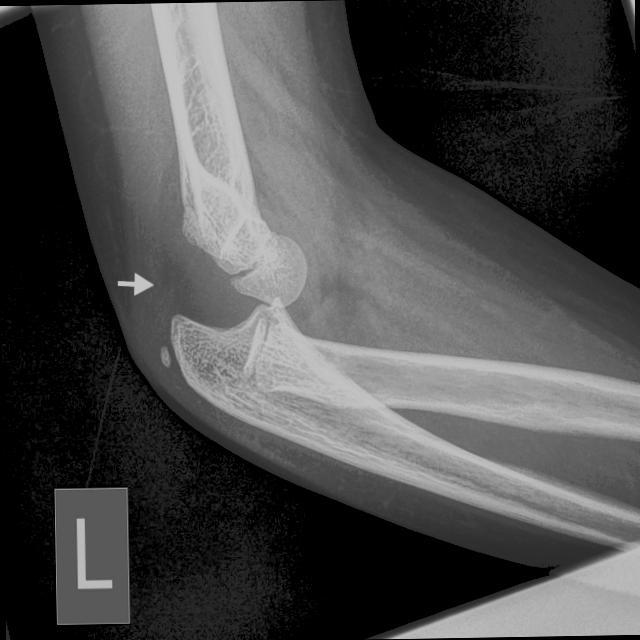Fracture Dislocation: (249, 266, 309, 321)
